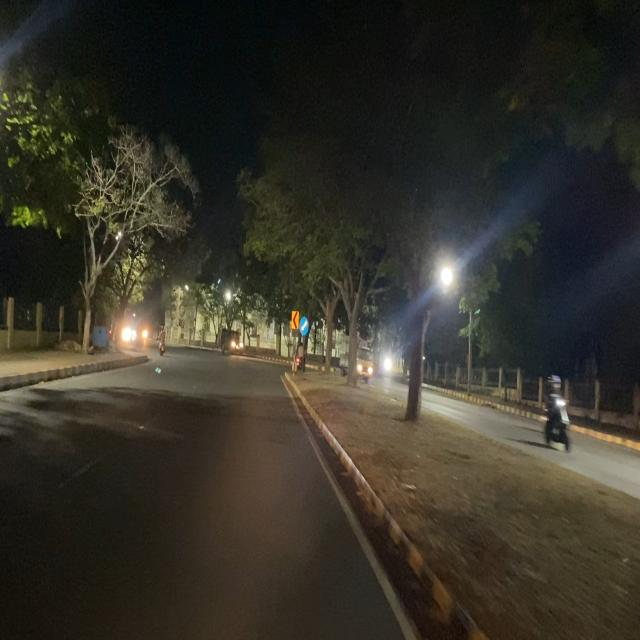bien_cam: (298, 316, 310, 336)
